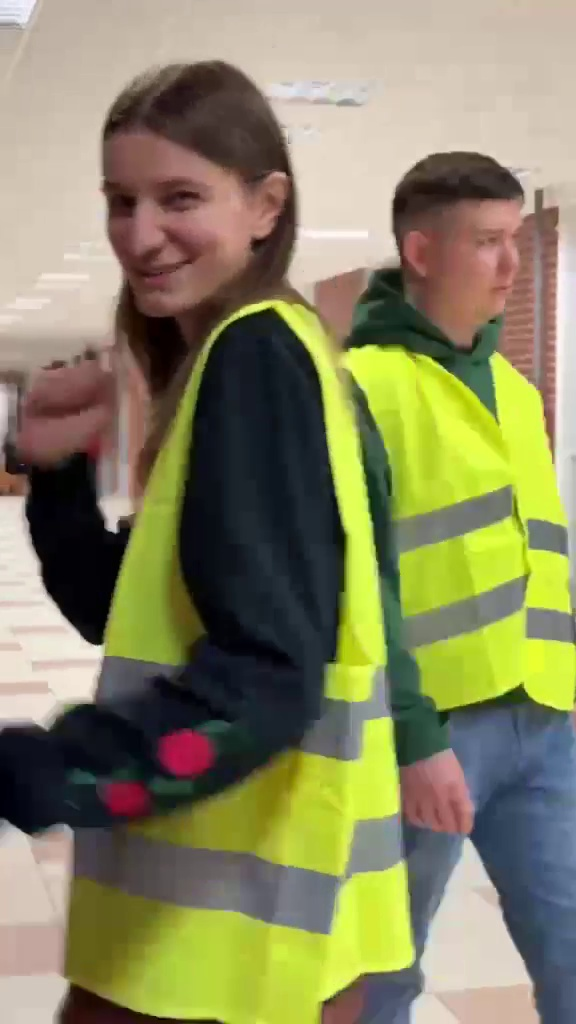vest: (63, 68, 391, 987), (346, 145, 576, 996)
